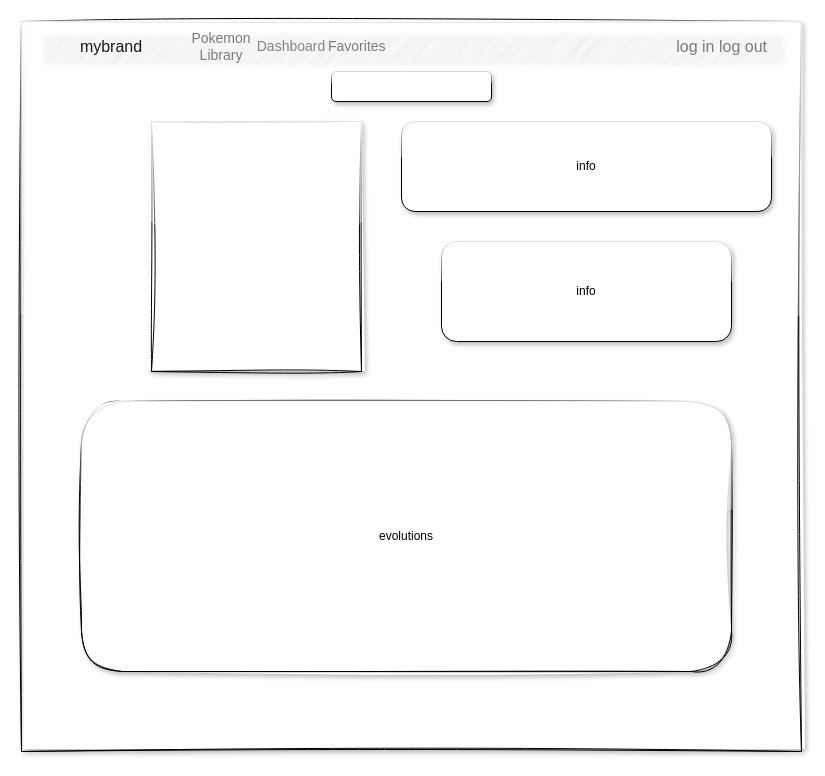
Some shapes in this 825 by 776 pixel diagram are drawn without their labels. The shapes that lost their labels are listed below. From the top down, each one's centre as x and y in pixels, then its label:
At (412,87): "Naam van de pokemon".
At (257,247): "Foto".
